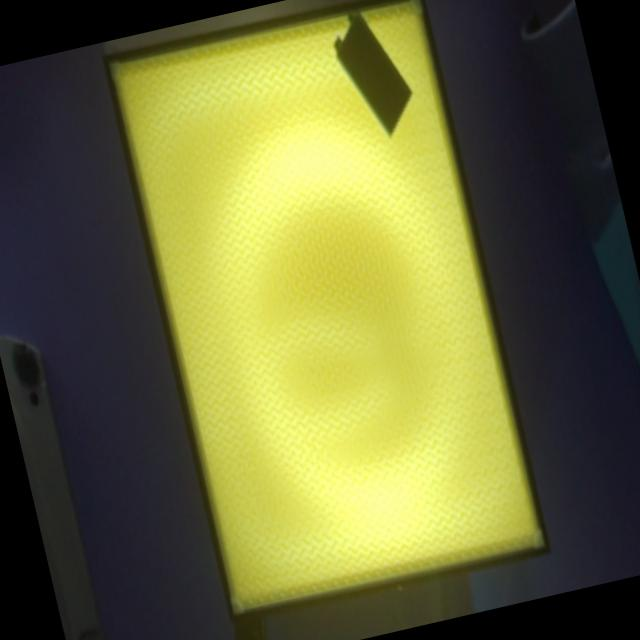bateria: (333, 10, 411, 138)
mesa: (102, 0, 551, 625)
